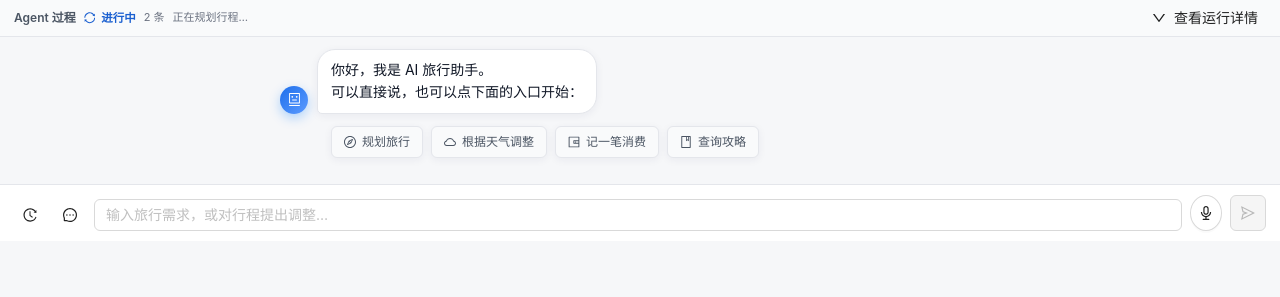
ChatPanel · V2.2 过程时间线与同步结果面板 › 有 activity 时在 .chat-messages 内部渲染过程时间线
This screenshot has width=1280, height=297.
Expected: the element with test id "agent-activity-panel" is shown, [0, 0, 1279, 37]
Click the button "查看运行详情".
click(1205, 18)  # box [1144, 6, 1266, 30]
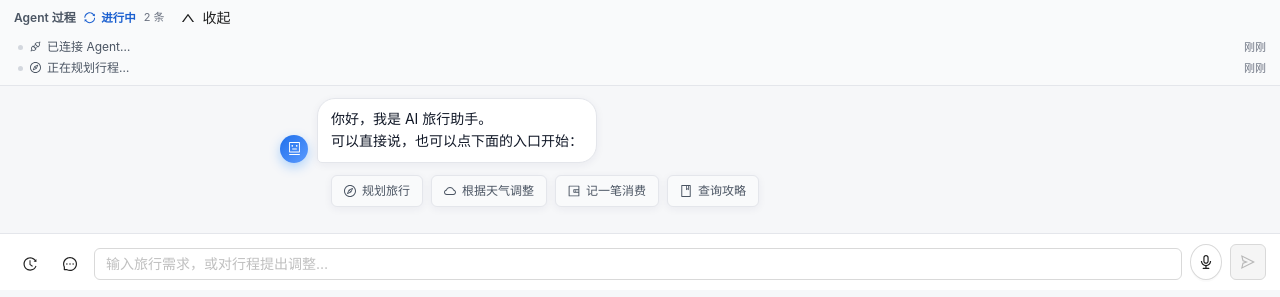
Expected: the text "正在规划行程…" is shown, [47, 60, 129, 75]
Expected: the text "已连接 Agent…" is shown, [47, 39, 130, 54]
